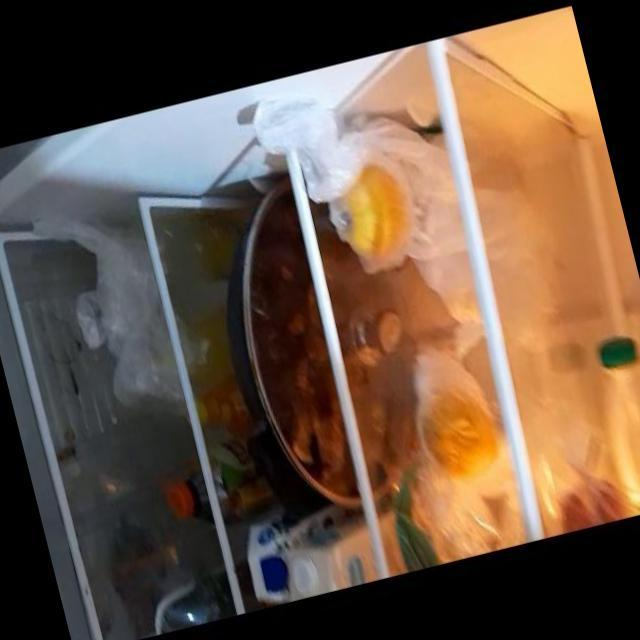Limón: (325, 160, 419, 267), (416, 385, 505, 492)
milk: (243, 499, 379, 606)
